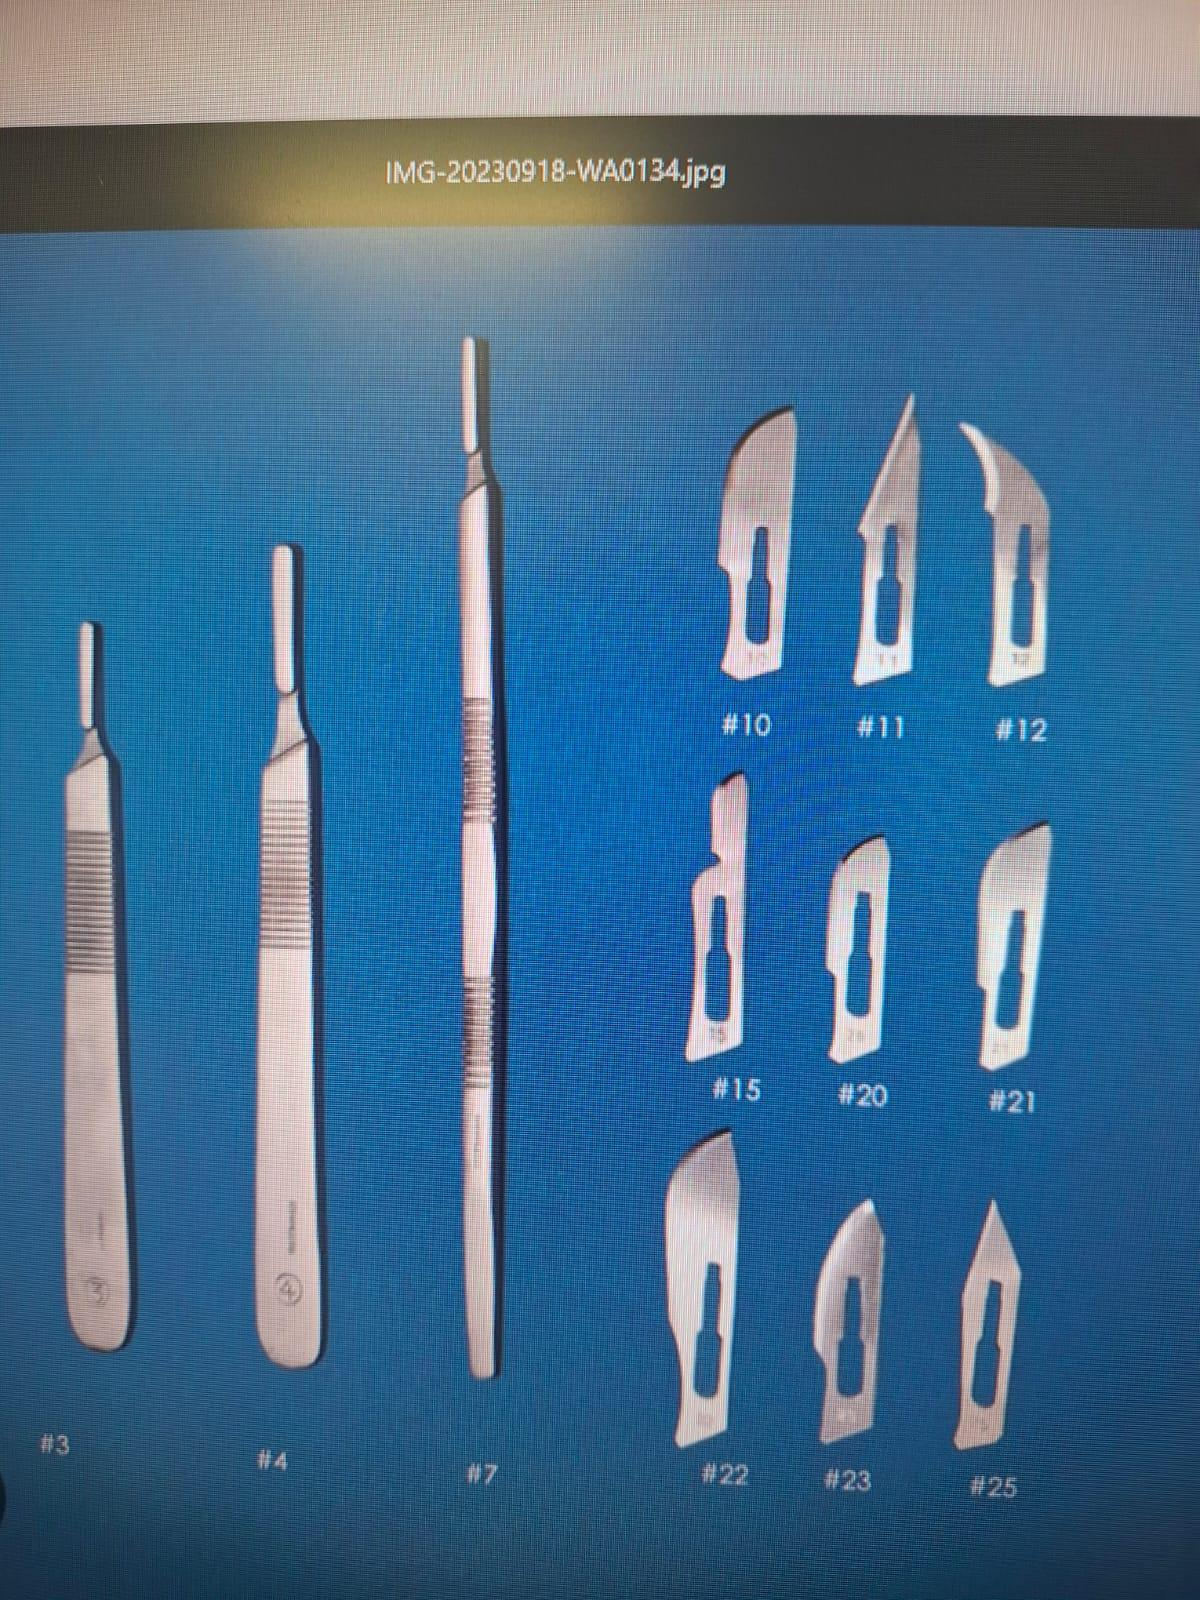Knife Blade: (953, 412, 1113, 706), (650, 1128, 775, 1455), (966, 772, 1093, 1085), (930, 1178, 1065, 1458), (700, 383, 811, 703), (808, 808, 928, 1082), (845, 386, 948, 690), (805, 1193, 908, 1455)
Knife Handle: (38, 597, 168, 1395), (232, 513, 345, 1382)
